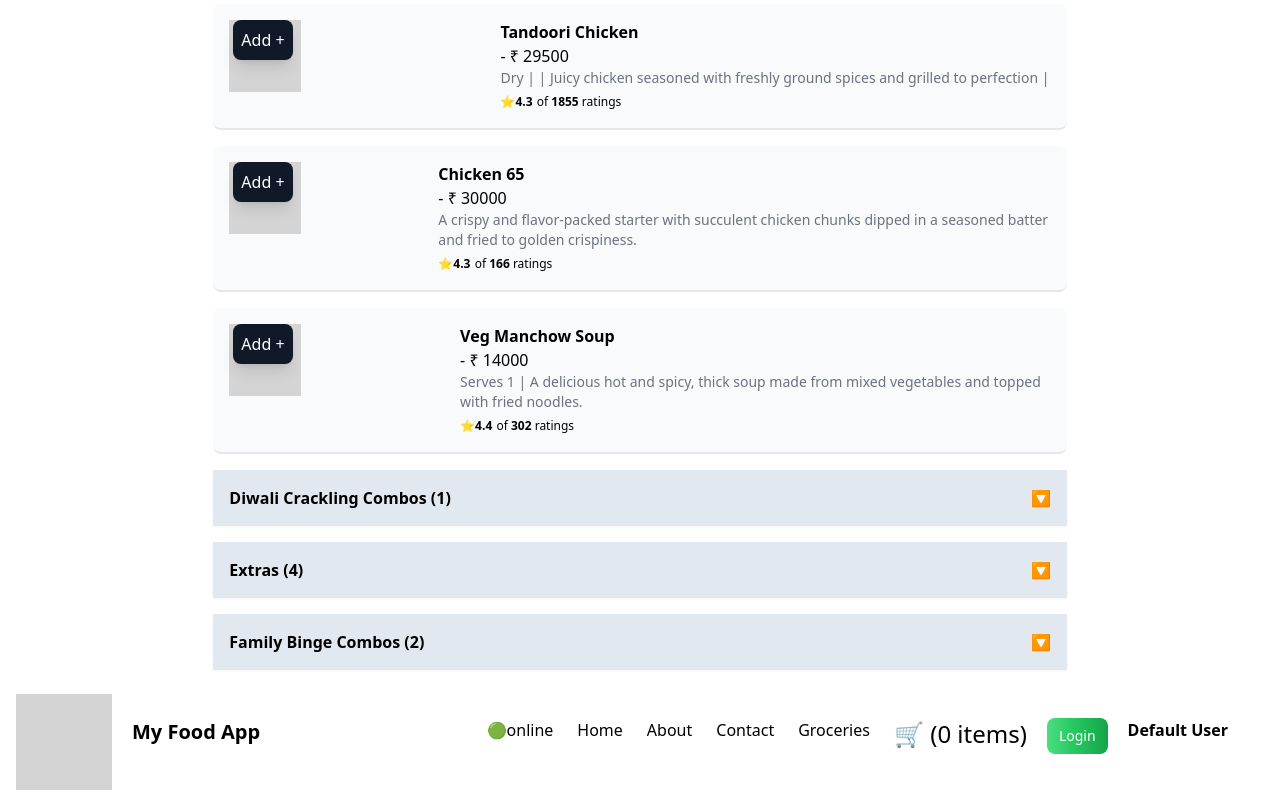
Test case: should Load Restaurant Menu Component
(page scrolled)
Click the text "Extras (4)": (266,570) left=229, top=558, right=303, bottom=582
(page scrolled)
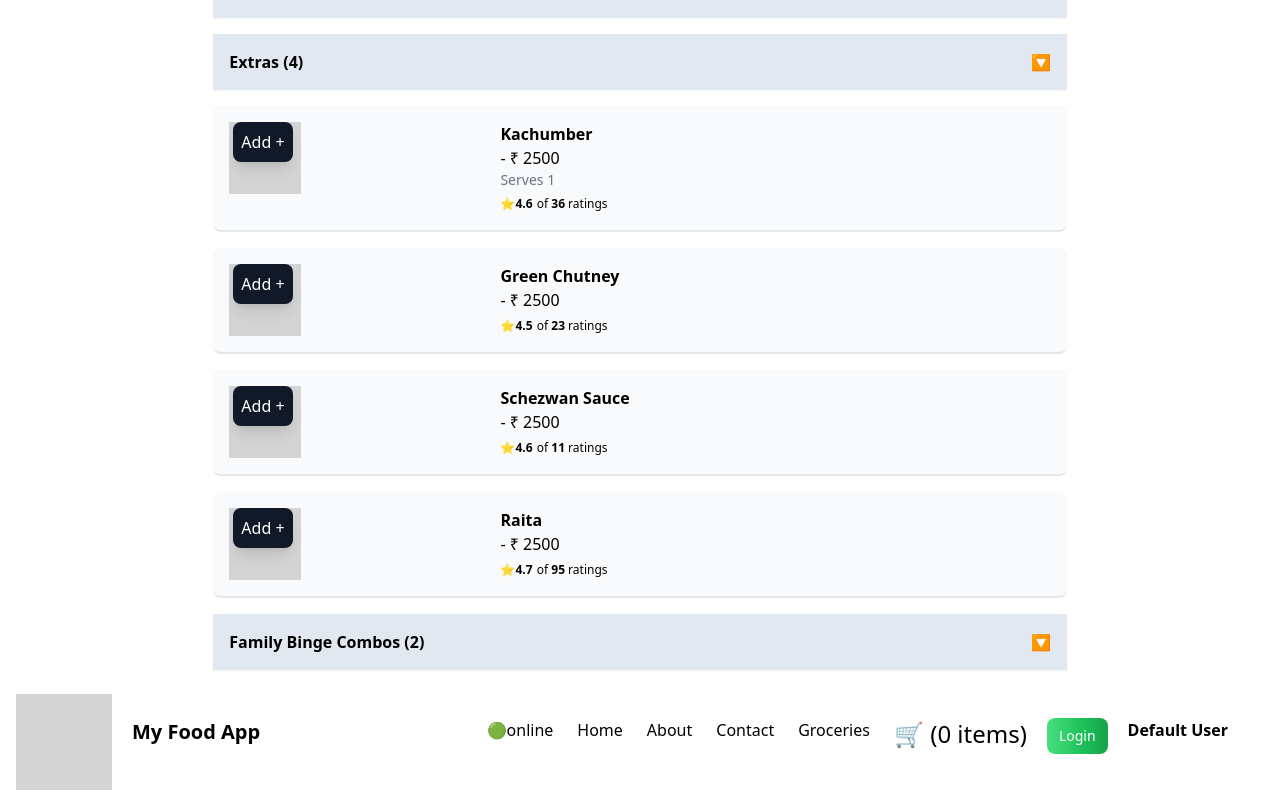
Result: the number of elements with test id "foodItems" is 4 at left=213, top=106, right=1067, bottom=232; left=213, top=248, right=1067, bottom=354; left=213, top=370, right=1067, bottom=476; left=213, top=492, right=1067, bottom=598
Note: Clicking the first add➕ button of our array:
Click the button "Add +" in the row of "Kachumber": (263,142) left=233, top=122, right=292, bottom=162
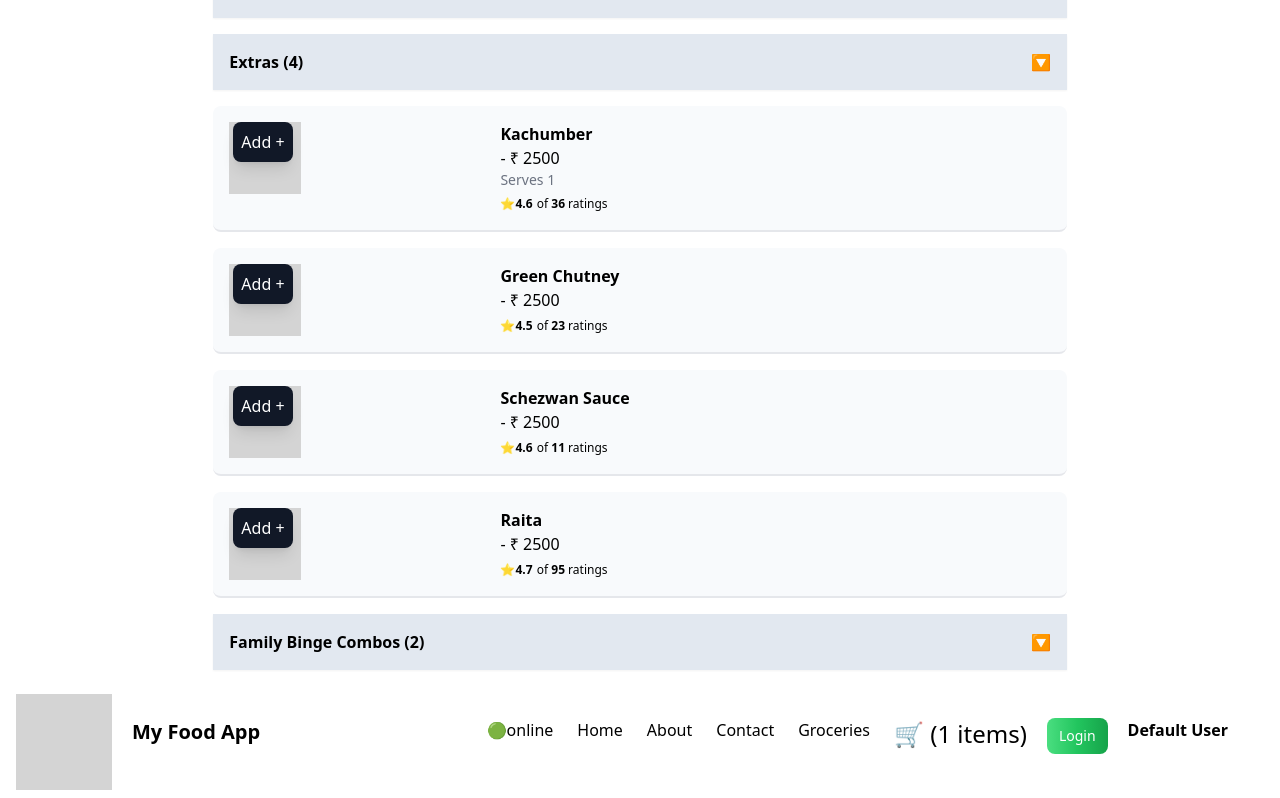
Result: the link "🛒 (1 items)" is shown at left=894, top=717, right=1027, bottom=750
Note: Clicking the second add➕ button of our array:
Click the button "Add +" in the row of "Green Chutney": (263,284) left=233, top=264, right=292, bottom=304
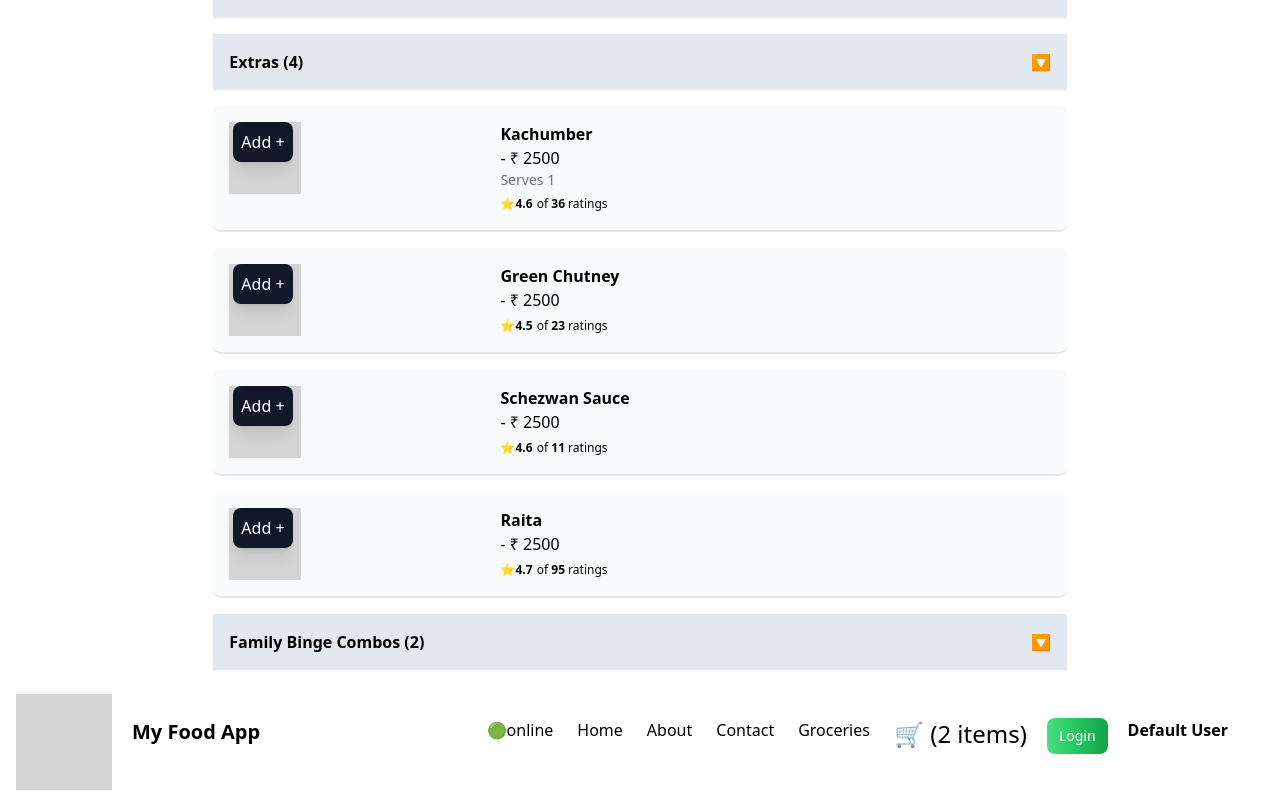
Result: the link "🛒 (2 items)" is shown at left=894, top=717, right=1027, bottom=750
